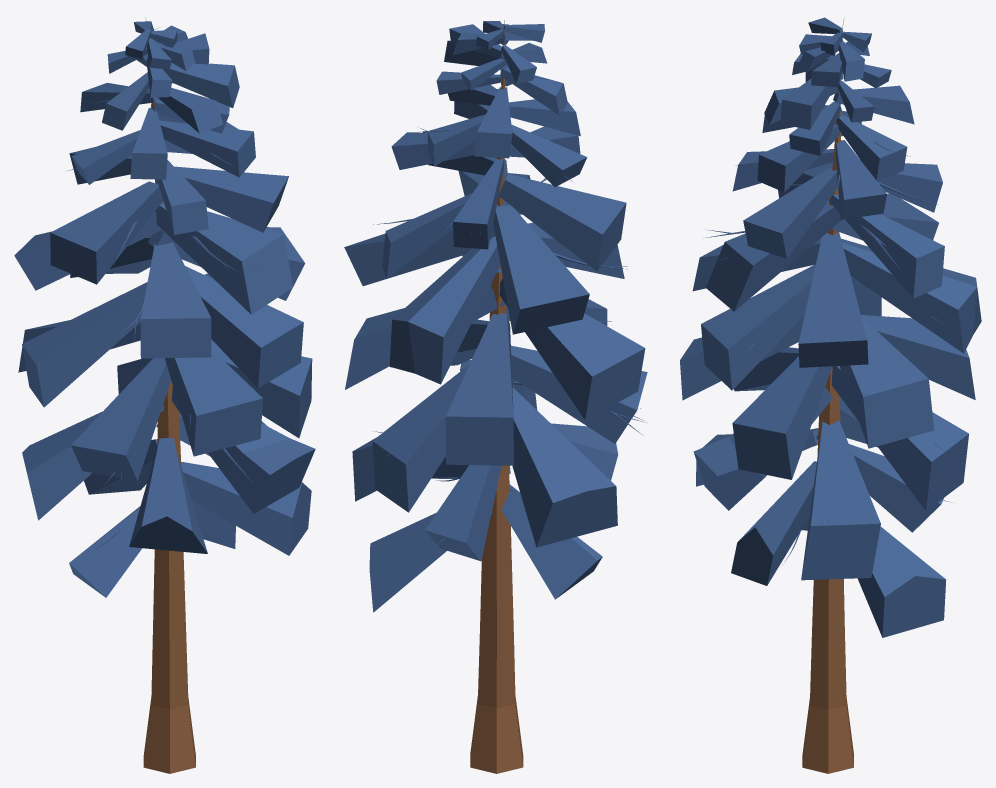
The model's file is Tree_10.fbx.
The picture shows the model from 3 angles, left to right: view 1: azimuth 30°, elevation 25°; view 2: azimuth 150°, elevation 25°; view 3: azimuth 270°, elevation 25°; orthographic projection. The views are drawn at different scales.
Parts seen in each view (by area): view 1: Tree_10_LOD0; view 2: Tree_10_LOD0; view 3: Tree_10_LOD0.
Boxes of the visible parts, bbox=[...] form: Tree_10_LOD0: bbox=[14, 18, 315, 773]; Tree_10_LOD0: bbox=[344, 20, 647, 773]; Tree_10_LOD0: bbox=[680, 17, 981, 773].
Size of what is drawn, in the model's own units: 80.07 by 211 by 78.78.
